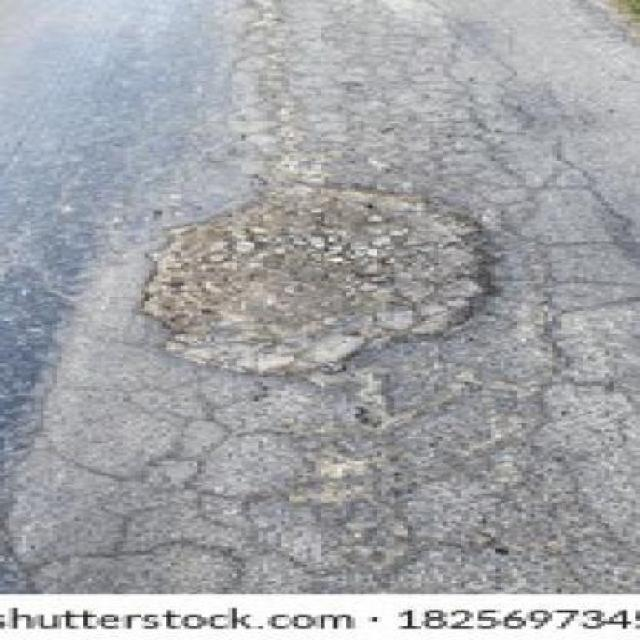Pothole: (136, 178, 504, 378)
